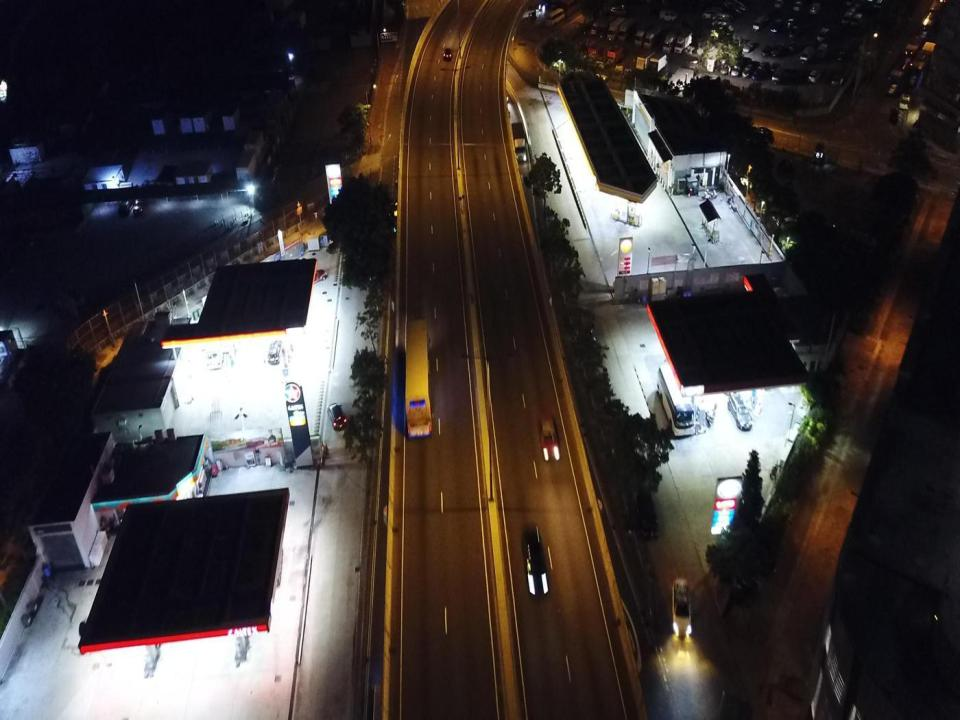bus: (404, 317, 433, 438), (657, 362, 695, 440), (887, 57, 908, 97), (908, 51, 929, 88), (206, 326, 224, 369), (902, 34, 924, 62), (920, 11, 938, 37), (929, 0, 947, 16)
car: (522, 524, 548, 598), (671, 576, 693, 637), (540, 416, 561, 459), (728, 394, 752, 431), (327, 401, 348, 430), (268, 340, 284, 364), (118, 192, 134, 216), (750, 127, 773, 140), (494, 84, 509, 103), (309, 270, 327, 283), (133, 198, 146, 215), (724, 4, 743, 14), (730, 0, 747, 11), (721, 57, 731, 75), (731, 58, 741, 76), (900, 91, 910, 109), (742, 61, 752, 78), (771, 43, 784, 56), (753, 64, 763, 80), (808, 70, 821, 82), (443, 47, 453, 61), (761, 44, 773, 55), (789, 40, 800, 52), (788, 26, 799, 38), (539, 0, 552, 9), (702, 10, 718, 17), (743, 42, 754, 52), (786, 18, 795, 30), (794, 1, 803, 11)
truck: (509, 122, 526, 162), (645, 23, 663, 48), (635, 22, 653, 46), (661, 28, 679, 52), (674, 28, 692, 52), (649, 50, 668, 72), (617, 19, 636, 41), (636, 49, 655, 70), (608, 18, 626, 38), (590, 14, 606, 34), (588, 43, 608, 58), (600, 16, 614, 36), (842, 6, 856, 26), (608, 46, 627, 60)
van: (636, 489, 658, 541), (546, 8, 565, 26), (659, 9, 677, 22), (770, 18, 783, 36), (772, 66, 785, 83), (801, 47, 814, 64), (610, 4, 628, 16), (752, 16, 764, 32), (818, 42, 828, 59), (817, 27, 829, 41), (852, 14, 862, 29), (809, 2, 820, 14)
